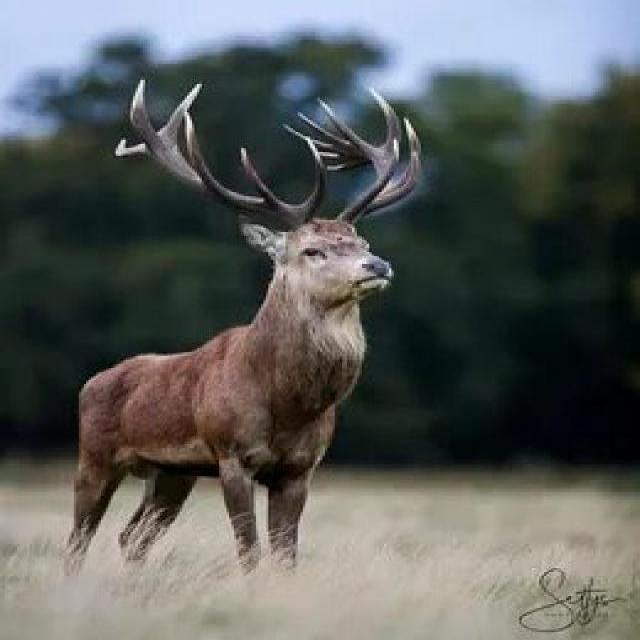deer: (36, 126, 534, 633)
